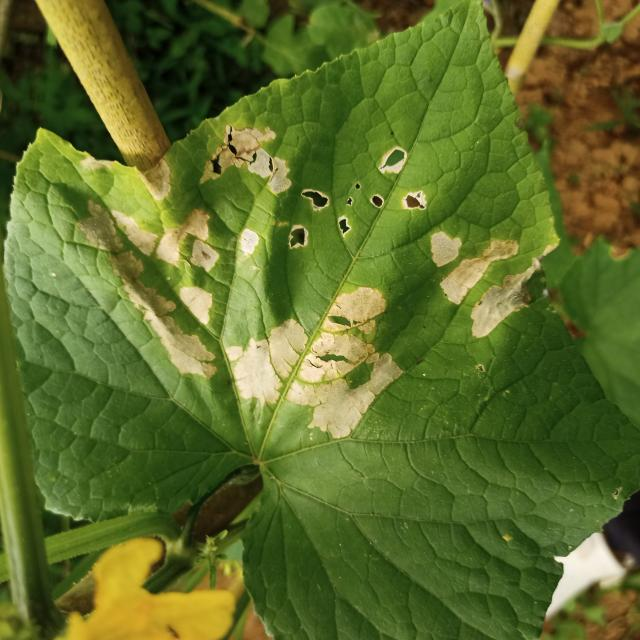disease_cucumber: (79, 127, 557, 438)
